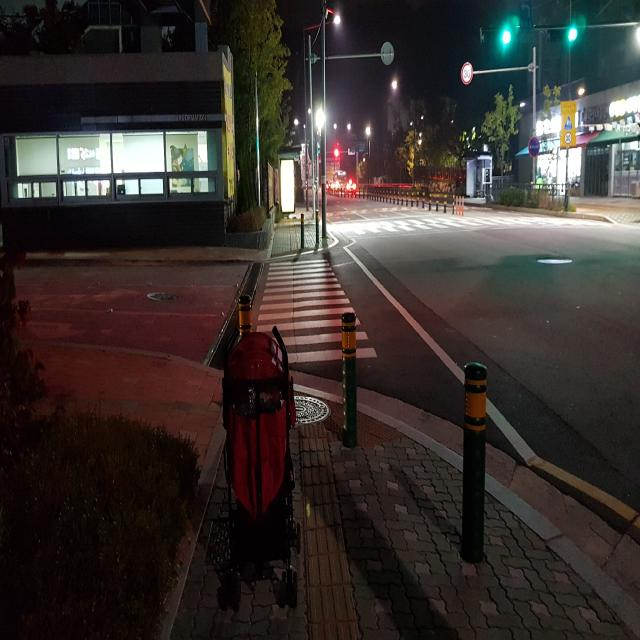횡단보도: (255, 257, 378, 365)
